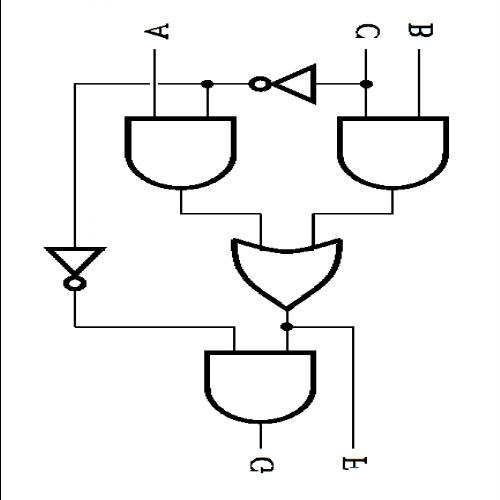and: (115, 108, 244, 196), (194, 344, 324, 428), (330, 110, 456, 195)
not: (34, 240, 114, 295), (242, 60, 325, 110)
or: (220, 234, 348, 316)
